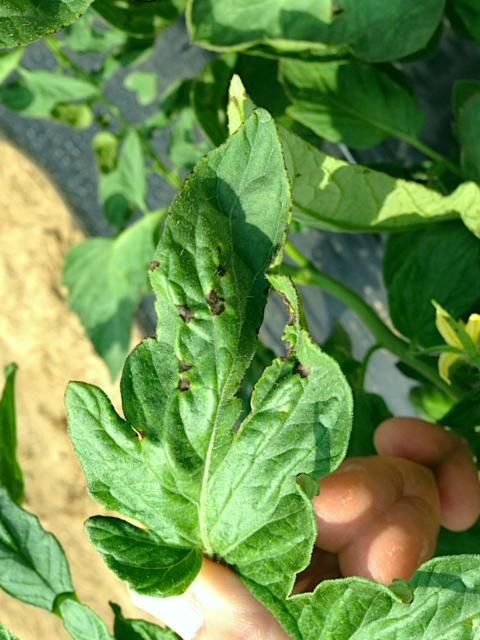Tomato leaf bacterial spot: (0, 96, 480, 640)
